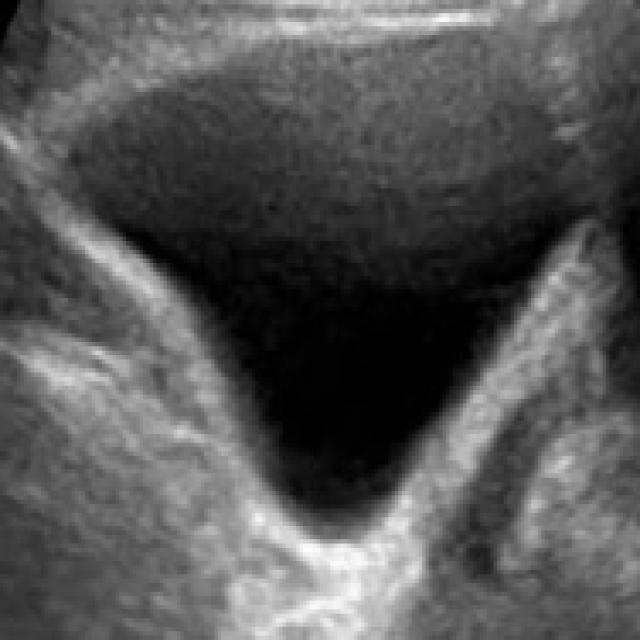bladder: (34, 0, 596, 607)
